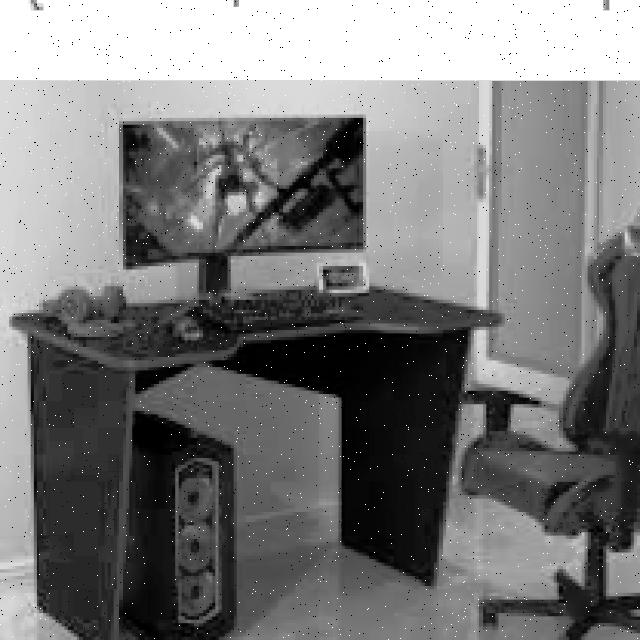book: (458, 158, 640, 640)
table: (13, 279, 508, 640)
